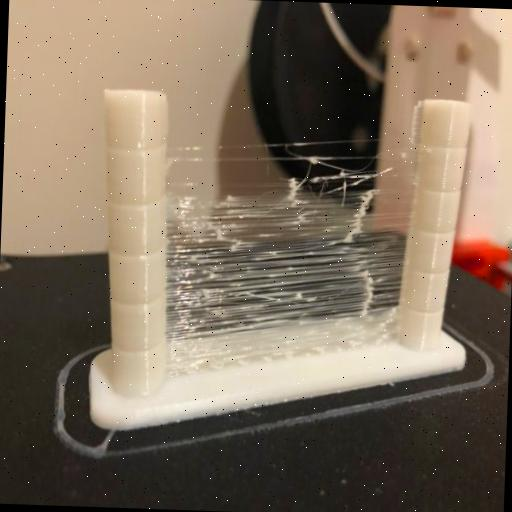stringing: (172, 134, 422, 374)
